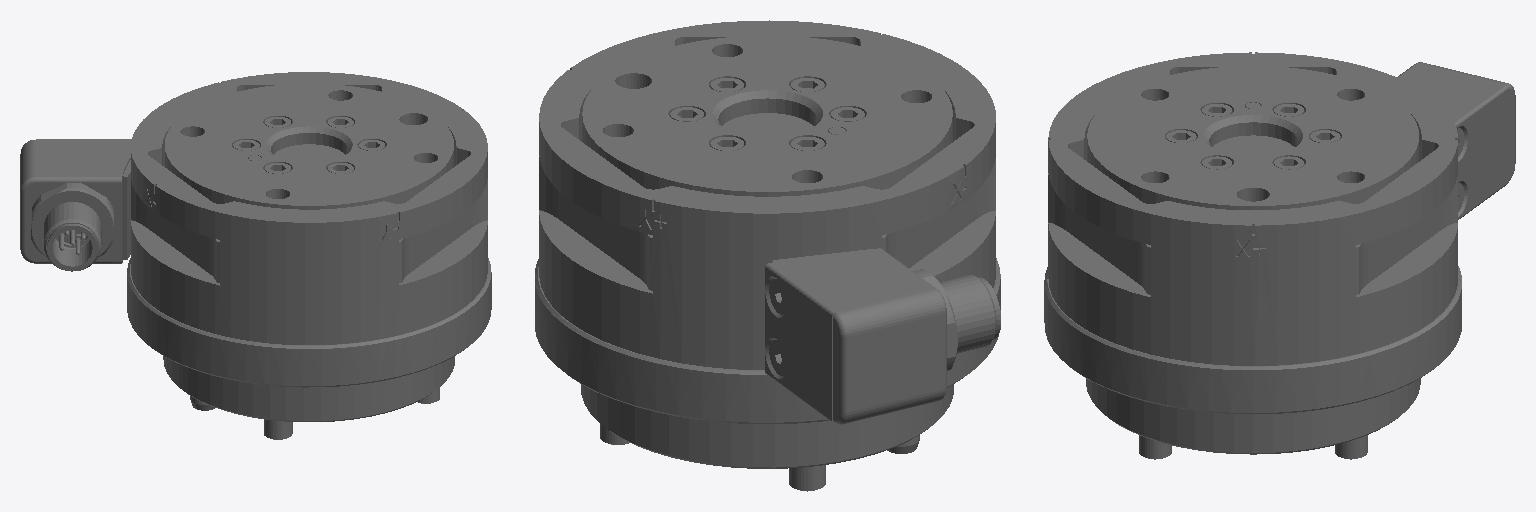
robot.urdf — netft_probe:
<?xml version="1.0"?>
<!--
  ATI NetFT Sensor + Transvaginal Probe for Drake
  NetFT dimensions from: ur_admittance_controller/urdf/ur_ft_sensor.xacro
-->
<robot name="netft_probe" xmlns:drake="http://drake.mit.edu">
  <!-- Properties (from xacro) -->
  <!-- sensor_dip: 0.003m, sensor_length: 0.04906m -->

  <!-- NetFT Base (attaches to UR5e flange) -->
  <link name="netft_link">
    <visual>
      <origin xyz="0 0 0.003" rpy="0 0 0"/>
      <geometry>
        <mesh filename="package://ur5e_description/netft/ati_netft_gamma.obj"/>
      </geometry>
      <material name="grey">
        <color rgba="0.5 0.5 0.5 1"/>
      </material>
    </visual>
    <collision>
      <origin xyz="0 0 0.003" rpy="0 0 0"/>
      <geometry>
        <mesh filename="package://ur5e_description/netft/ati_netft_gamma.obj"/>
      </geometry>
    </collision>
    <inertial>
      <mass value="0.5"/>
      <origin xyz="0 0 0.02753" rpy="0 0 0"/>
      <inertia ixx="0.001" ixy="0" ixz="0" iyy="0.001" iyz="0" izz="0.001"/>
    </inertial>
  </link>

  <!-- Transvaginal Probe -->
  <joint name="transvaginal_probe_joint" type="fixed">
    <origin xyz="-0.075 0 0.15206" rpy="4.71239 4.71239 1.5708"/>
    <parent link="netft_link"/>
    <child link="transvaginal_probe_link"/>
  </joint>
  <link name="transvaginal_probe_link">
    <visual>
      <origin xyz="0 0 0" rpy="0 0 0"/>
      <geometry>
        <mesh filename="package://ur5e_description/probe/transvaginal_probe.obj"/>
      </geometry>
      <material name="white">
        <color rgba="0.9 0.9 0.9 1"/>
      </material>
    </visual>
    <collision>
      <origin xyz="0 0 0" rpy="0 0 0"/>
      <geometry>
         <mesh filename="package://ur5e_description/probe/transvaginal_probe.obj"/>
      </geometry>
      <drake:proximity_properties>
        <drake:compliant_hydroelastic/>
        <drake:hydroelastic_modulus value="1e8"/>
        <drake:mesh_resolution_hint value="0.01"/>
        <drake:hunt_crossley_dissipation value="1.0"/>
        <drake:mu_dynamic value="1.0"/>
        <drake:mu_static value="1.0"/>
      </drake:proximity_properties>
    </collision>
    <inertial>
      <mass value="0.3"/>
      <origin xyz="-0.018 0 0.014" rpy="0 0 0"/>
      <inertia ixx="0.002" ixy="0" ixz="0" iyy="0.002" iyz="0" izz="0.0005"/>
    </inertial>
  </link>

  <!-- TCP Frame (Tool Center Point) -->
  <joint name="tcp_joint" type="fixed">
    <origin xyz="0 0 0.214" rpy="0 0 0"/>
    <parent link="transvaginal_probe_link"/>
    <child link="tcp"/>
  </joint>
  <link name="tcp"/>

</robot>

--- What the picture shows (computed from the rendered views, not written in the file) ---
The picture shows the robot from 3 angles, left to right: view 1: azimuth 30°, elevation 25°; view 2: azimuth 150°, elevation 25°; view 3: azimuth 270°, elevation 25°; orthographic projection.
Model netft_probe with 3 links and 2 joints (2 fixed), rooted at netft_link, posed every joint at zero.
Visible links, largest first — view 1: netft_link; view 2: netft_link; view 3: netft_link.
Link boxes in pixels (x1,y1,x2,y2): netft_link: (20,72,491,439); netft_link: (535,20,1000,491); netft_link: (1044,52,1515,459).
Size in the robot's own frame: 0.0909 by 0.0851 by 0.0552 metres.
1 mesh visuals loaded from 2 distinct referenced files (1 OBJ); not drawn: 1 (reference not matched to a file when rendering).